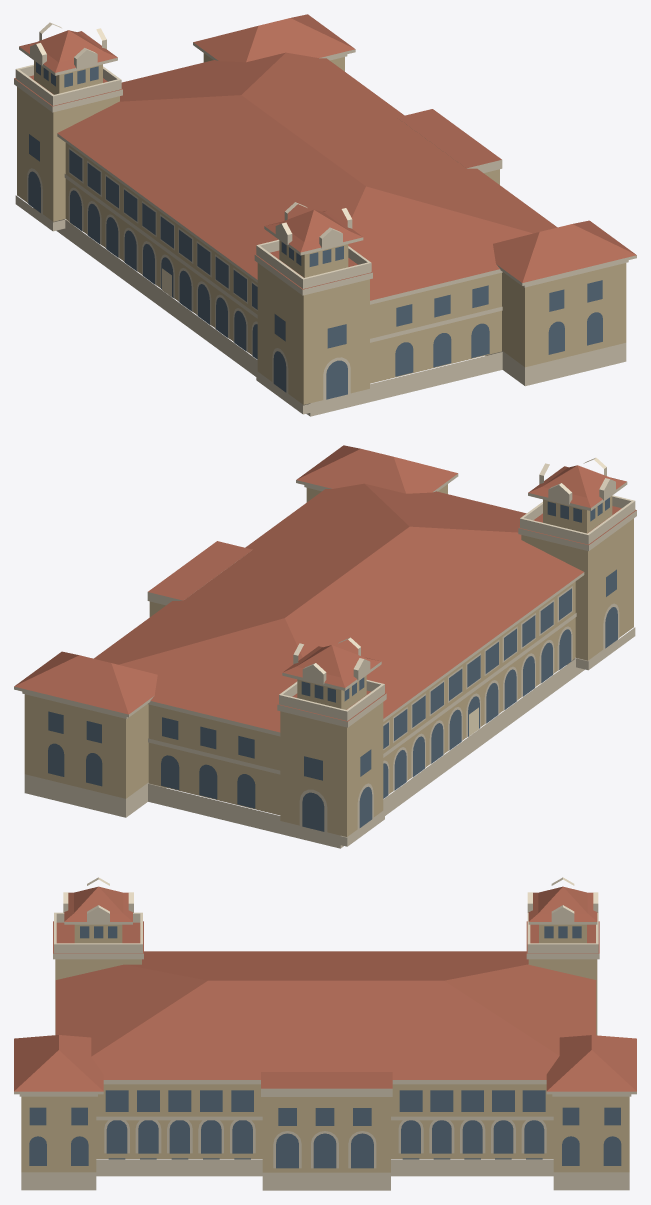
Rendered from det-belle-isle-casino.glb.
3 renders of one model, top to bottom at view 1: azimuth 30°, elevation 25°; view 2: azimuth 150°, elevation 25°; view 3: azimuth 270°, elevation 25°, orthographic. The views are drawn at different scales.
Visible parts, largest first — view 1: Belle Isle Casino; view 2: Belle Isle Casino; view 3: Belle Isle Casino.
Boxes of the visible parts, bbox=[...] form: Belle Isle Casino: bbox=[14, 14, 636, 416]; Belle Isle Casino: bbox=[14, 445, 636, 848]; Belle Isle Casino: bbox=[14, 877, 636, 1190].
Bounding box in the file's own units: 32.95 × 18.9 × 59.9.
